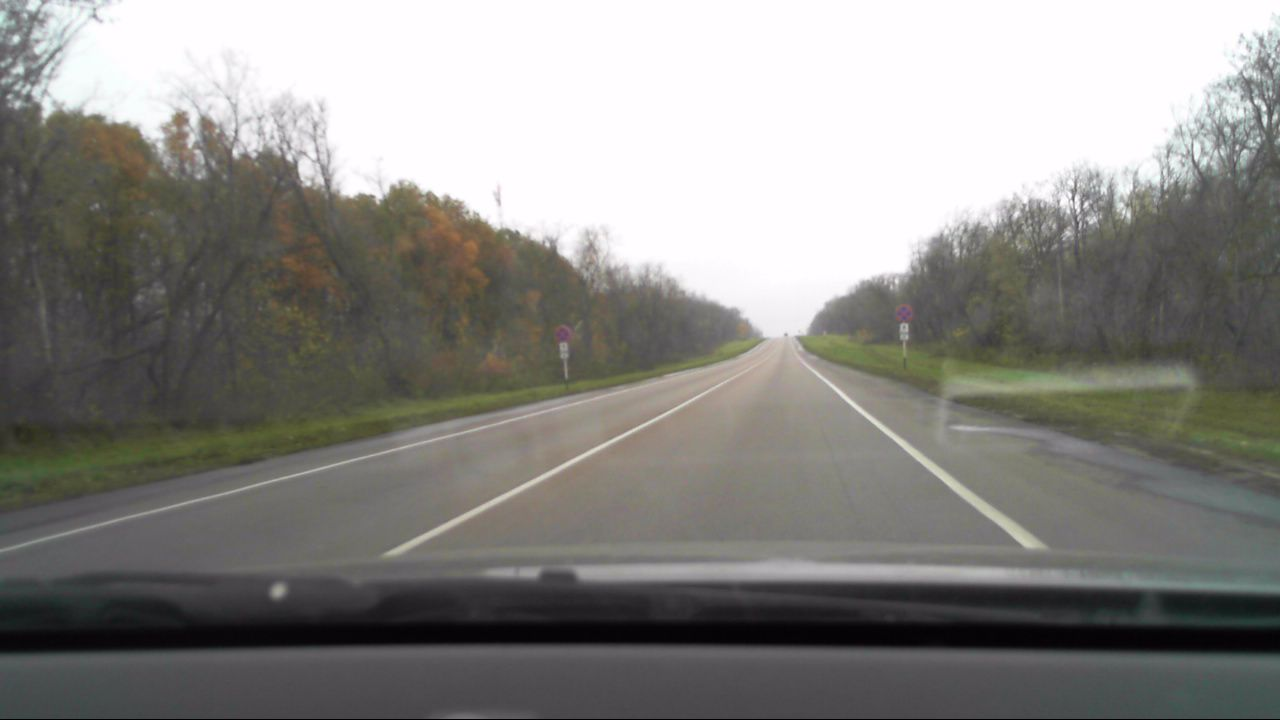No Parking: (552, 323, 572, 341)
